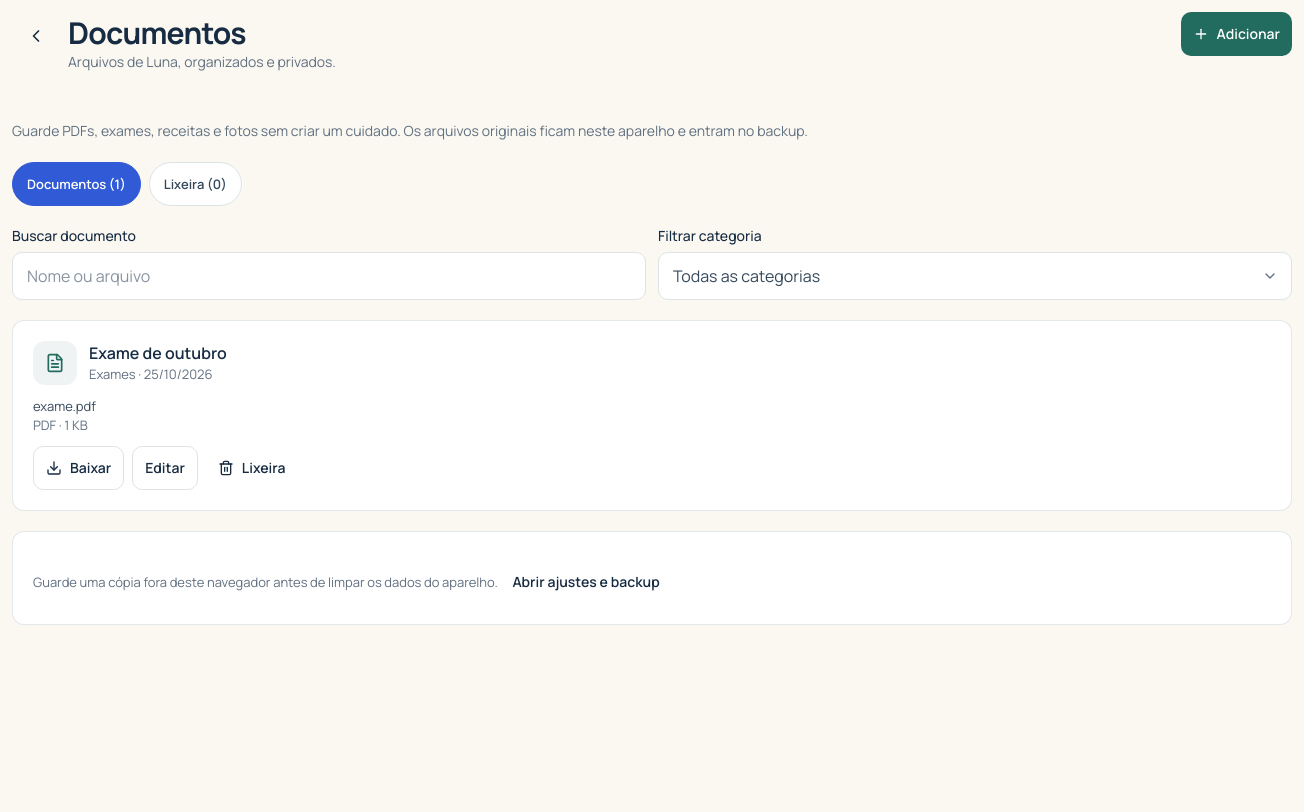
Test case: biblioteca de documentos › oferece recuperação quando o arquivo não pode ser lido
What coordinates should you click on to do the following:
click the button with aria-label "Baixar Exame de outubro"
I would click on:
 (79, 468)
Its box is [33, 446, 124, 490].
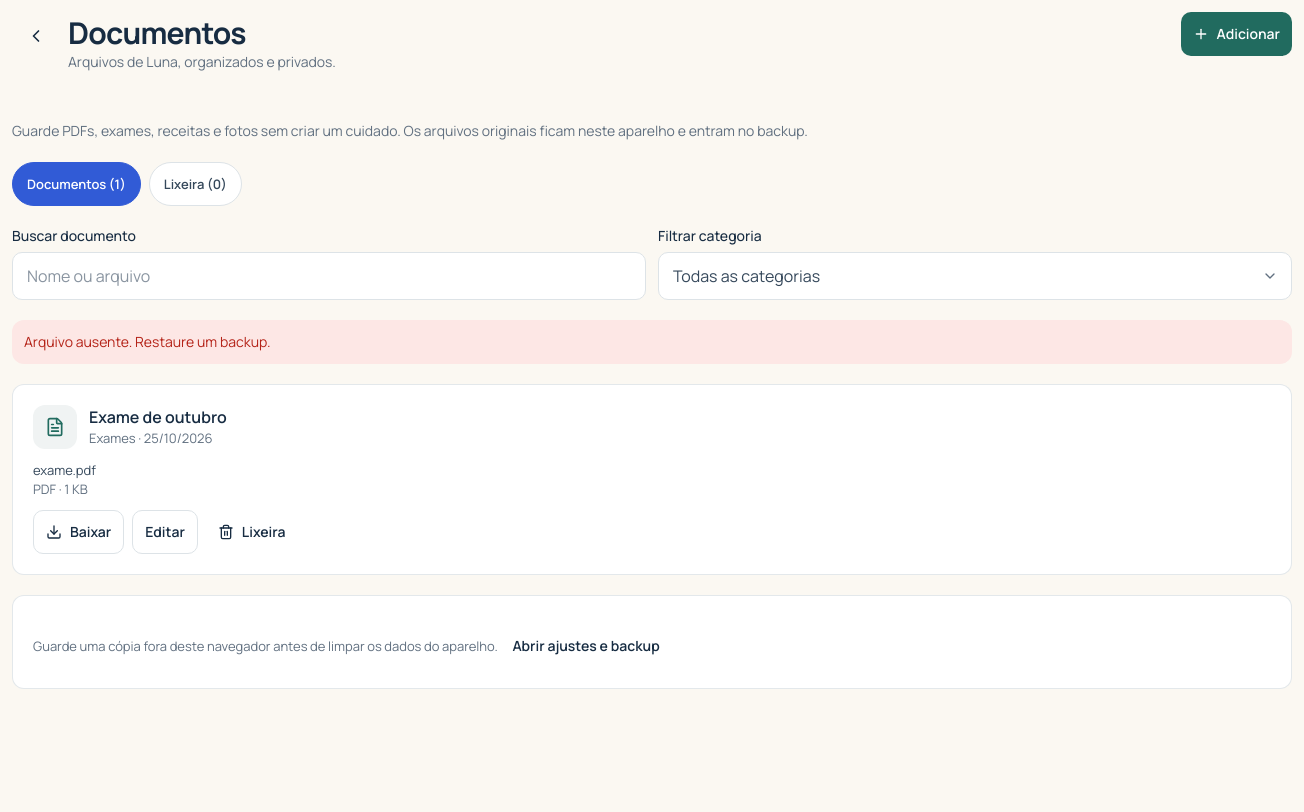
Expected: the heading "Exame de outubro" is shown, [89, 406, 227, 428]
Now the message shows "Restaure um backup", box [24, 332, 271, 351]
